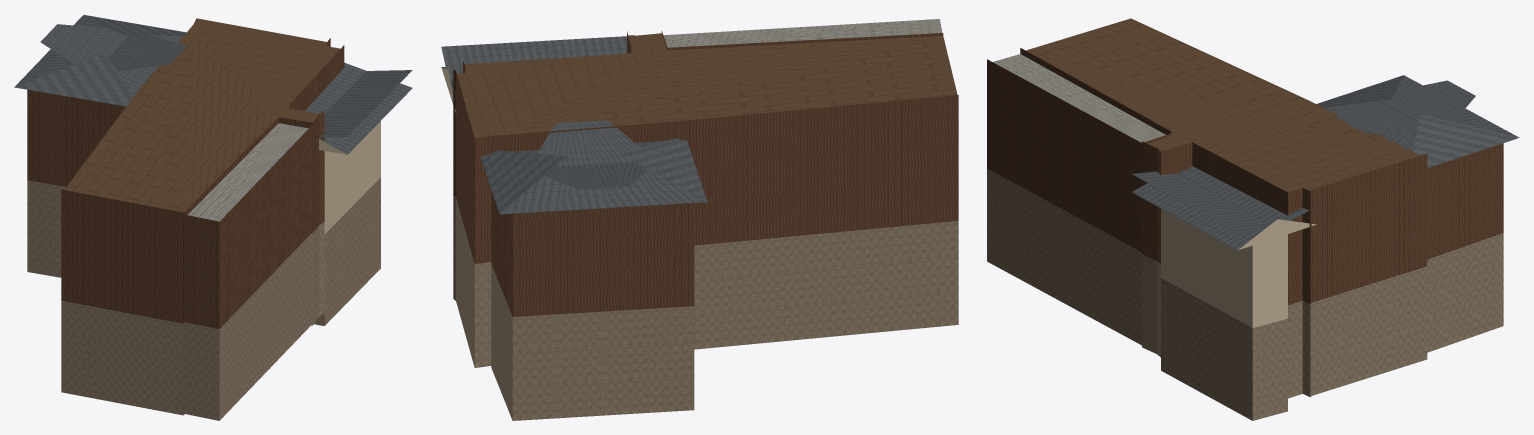
The model's file is bld_c34_45_240.gltf.
The picture shows the model from 3 angles, left to right: view 1: azimuth 30°, elevation 25°; view 2: azimuth 150°, elevation 25°; view 3: azimuth 270°, elevation 25°; orthographic projection. The views are drawn at different scales.
Parts seen in each view (by area): view 1: bld_c34_45_240; view 2: bld_c34_45_240; view 3: bld_c34_45_240.
Boxes of the visible parts, box(x1,y1,x2,y2) form: bld_c34_45_240: box(14, 15, 412, 420); bld_c34_45_240: box(441, 19, 958, 420); bld_c34_45_240: box(987, 18, 1519, 420).
Size of the model in its own units: 23.51 by 12 by 26.43.
Materials: 8 (8 with a texture image).
